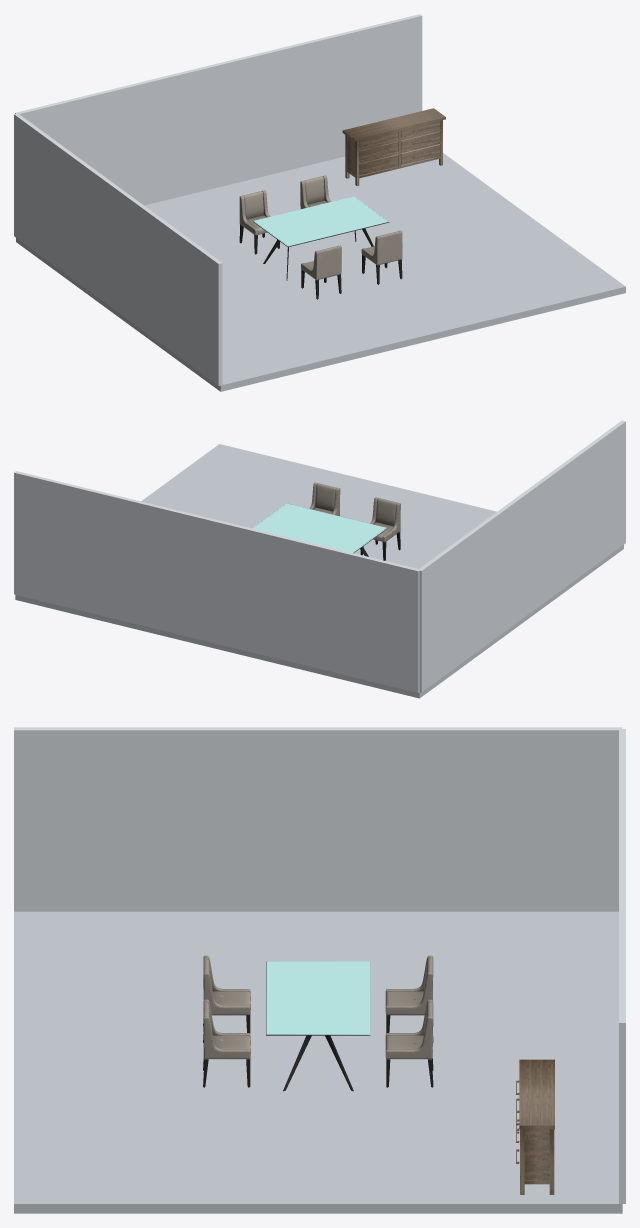
Rendered from stage1.glb.
3 views of the same model, one above another, from view 1: azimuth 30°, elevation 25°; view 2: azimuth 150°, elevation 25°; view 3: azimuth 270°, elevation 25° (orthographic). The views are drawn at different scales.
Parts seen in each view (by area): view 1: Floor, wall_back, wall_left, raw_model.005, raw_model, raw_model.001, raw_model.002, raw_model.004, raw_model.003; view 2: wall_back, wall_left, Floor, raw_model, raw_model.002, raw_model.001; view 3: Floor, wall_left, raw_model, raw_model.005, wall_back, raw_model.001, raw_model.003, raw_model.002, raw_model.004.
Part boxes in pixels (x1,y1,x2,y2): Floor: (16,153,625,391); wall_back: (15,14,422,205); wall_left: (14,113,222,385); raw_model.005: (342,108,445,185); raw_model: (253,196,389,280); raw_model.001: (361,230,402,284); raw_model.002: (301,245,341,299); raw_model.004: (239,190,279,254); raw_model.003: (300,175,330,208); wall_back: (14,471,419,692); wall_left: (418,420,625,692); Floor: (15,444,623,698); raw_model: (252,503,387,556); raw_model.002: (360,497,400,560); raw_model.001: (309,482,340,516); Floor: (14,911,622,1213); wall_left: (14,727,622,911); raw_model: (266,961,370,1091); raw_model.005: (516,1059,554,1194); wall_back: (619,729,625,1203); raw_model.001: (203,999,250,1087); raw_model.003: (385,999,433,1087); raw_model.002: (203,955,250,1042); raw_model.004: (385,955,433,1042).
Bounding box in the file's own units: 8.04 × 2.42 × 7.04.
Materials: 8 (6 with a texture image).
